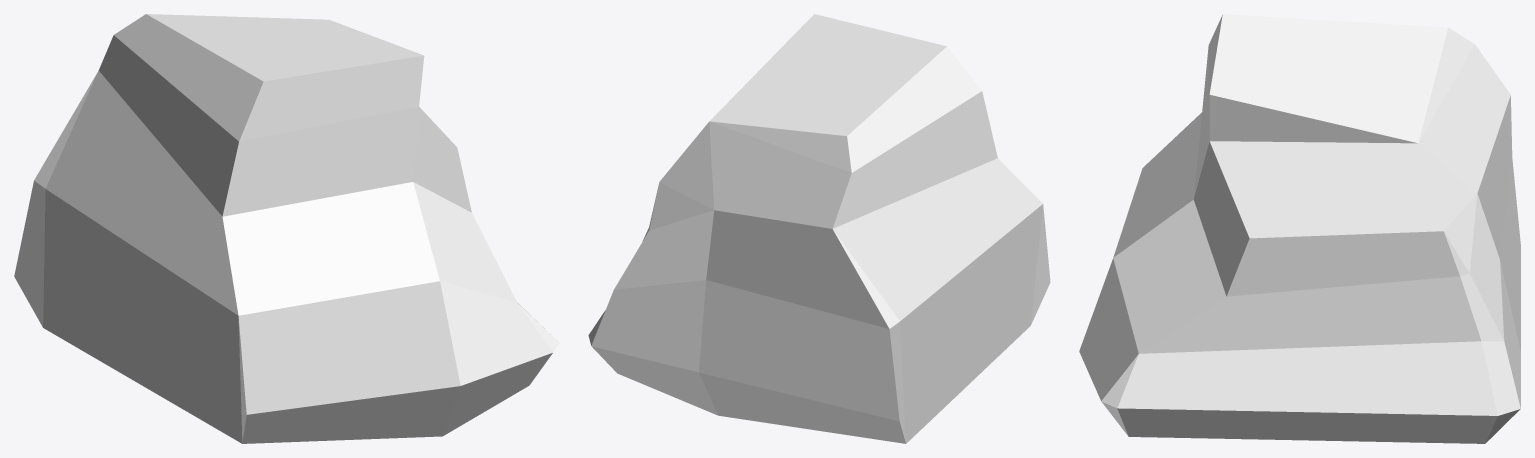
Rendered from Rock3.fbx.
3 views of the same model, side by side, from view 1: azimuth 30°, elevation 25°; view 2: azimuth 150°, elevation 25°; view 3: azimuth 270°, elevation 25° (orthographic). The views are drawn at different scales.
Parts seen in each view (by area): view 1: Rock_3_Cube.017; view 2: Rock_3_Cube.017; view 3: Rock_3_Cube.017.
Boxes of the visible parts, x1=… form: Rock_3_Cube.017: x1=14, y1=14, x2=559, y2=443; Rock_3_Cube.017: x1=588, y1=14, x2=1050, y2=443; Rock_3_Cube.017: x1=1079, y1=14, x2=1520, y2=443.
Size of the model in its own units: 73.84 by 67.6 by 80.26.
